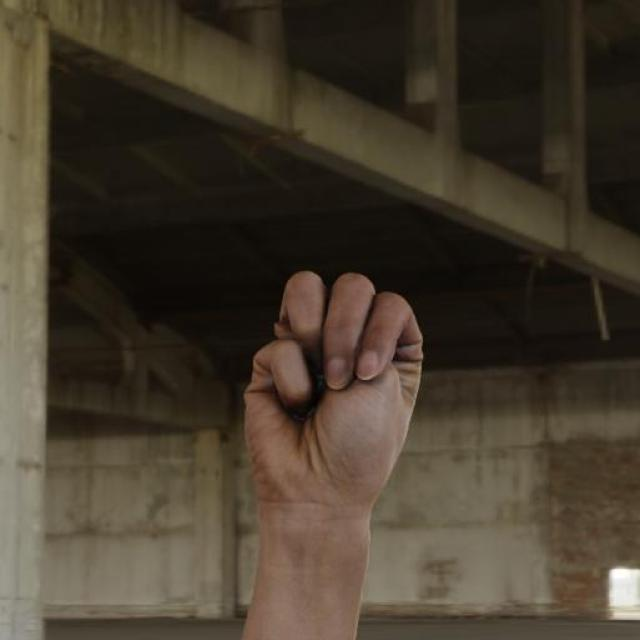M: (241, 268, 428, 516)
